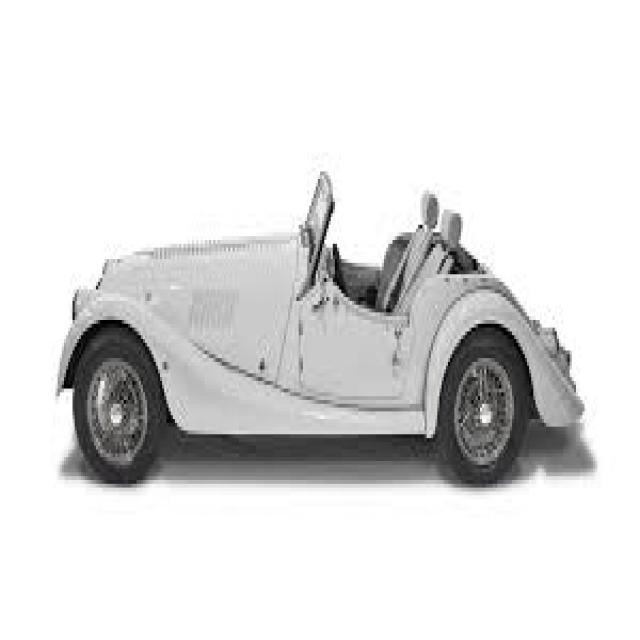Car: (53, 171, 594, 498)
